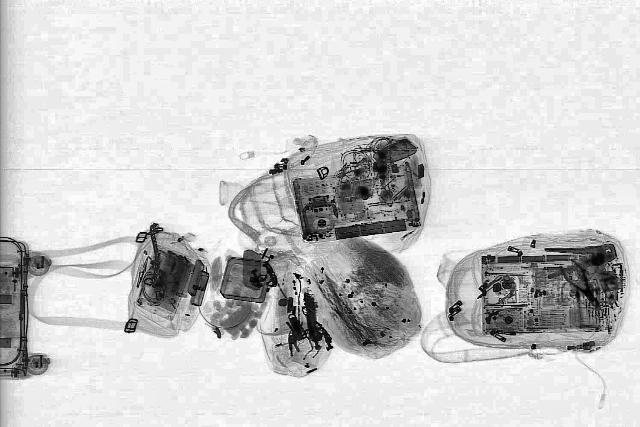Pliers: (534, 238, 622, 278), (554, 258, 612, 314)
